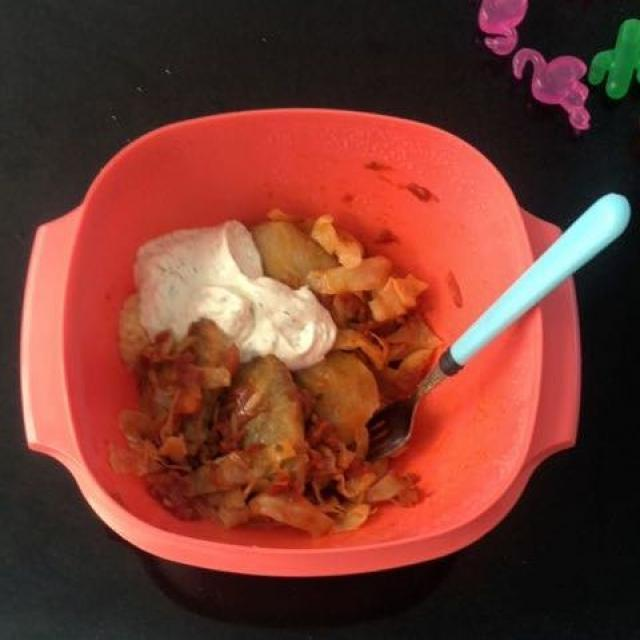cabbage: (137, 211, 423, 514)
sour-cream: (116, 209, 346, 371)
